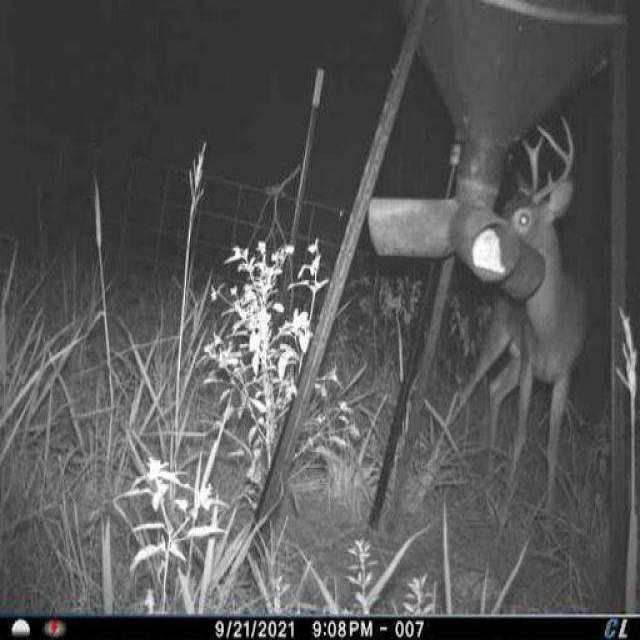deer: (448, 106, 592, 523)
